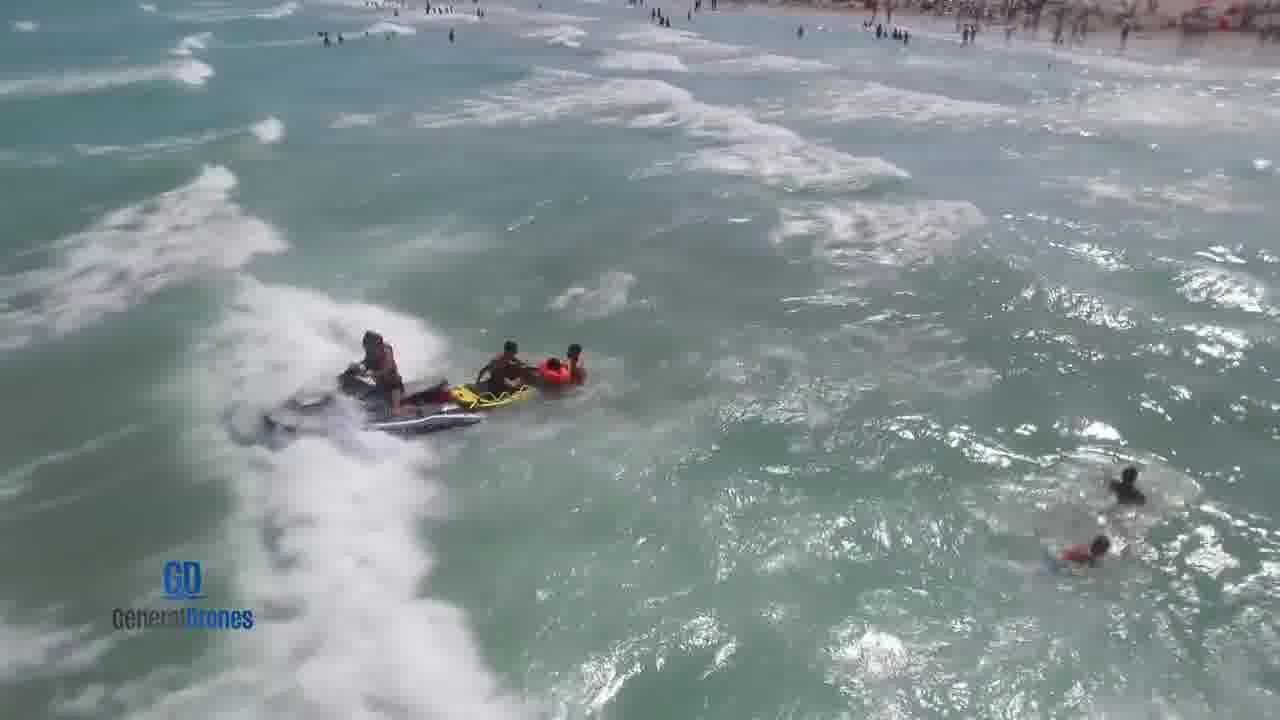human: (1048, 524, 1124, 573), (1098, 453, 1154, 510)
